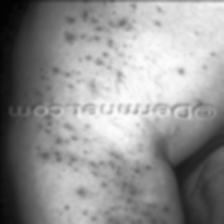Toxin: (31, 116, 167, 224), (35, 0, 130, 104)
